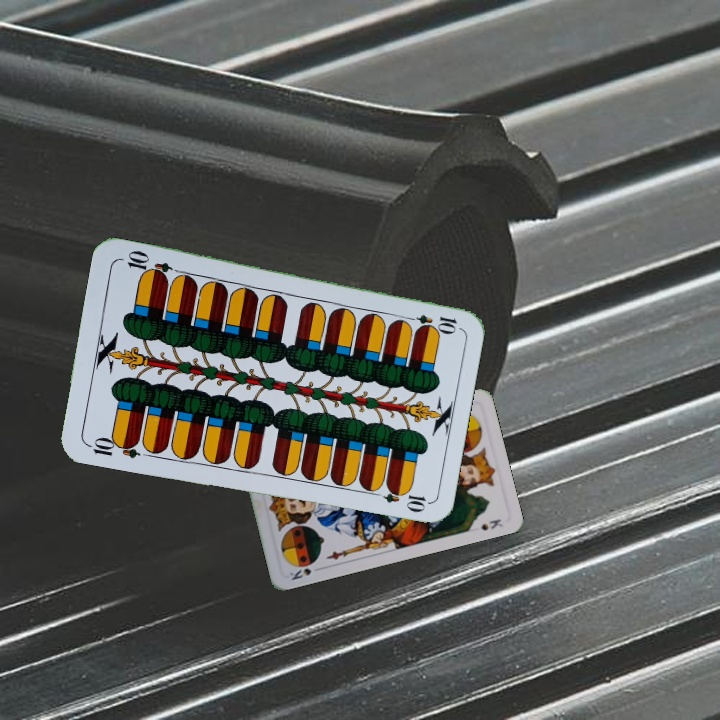E10: (83, 433, 142, 461), (400, 310, 459, 333)
SK: (285, 563, 325, 583)
